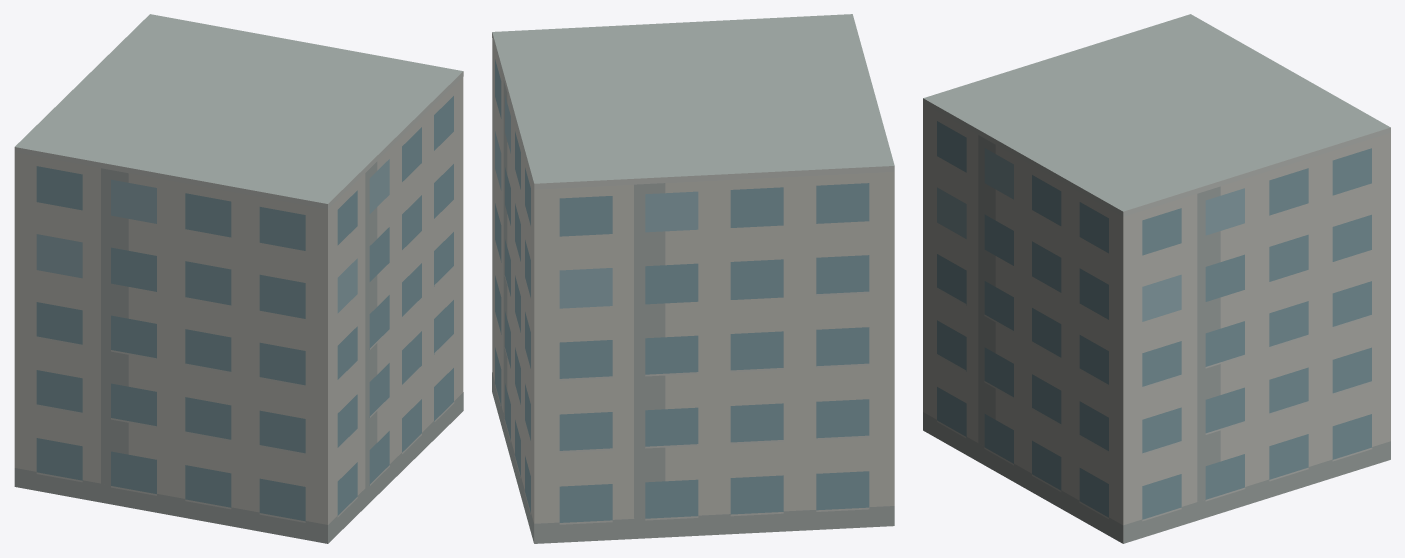
File: residential-8c1effa2-c812-44cd-a833-f45786c5b921.glb
3 views of the same model, side by side, from view 1: azimuth 30°, elevation 25°; view 2: azimuth 150°, elevation 25°; view 3: azimuth 270°, elevation 25° (orthographic). The views are drawn at different scales.
Visible parts, largest first — view 1: residential-8c1effa2-c812-44cd-a833-f45786c5b921.tmp; view 2: residential-8c1effa2-c812-44cd-a833-f45786c5b921.tmp; view 3: residential-8c1effa2-c812-44cd-a833-f45786c5b921.tmp.
Part boxes in pixels (box(x1,y1,x2,y2)): residential-8c1effa2-c812-44cd-a833-f45786c5b921.tmp: box(14, 14, 463, 543); residential-8c1effa2-c812-44cd-a833-f45786c5b921.tmp: box(492, 14, 894, 543); residential-8c1effa2-c812-44cd-a833-f45786c5b921.tmp: box(923, 14, 1390, 543).
Size of the model in its own units: 19.21 by 15.05 by 19.21.
